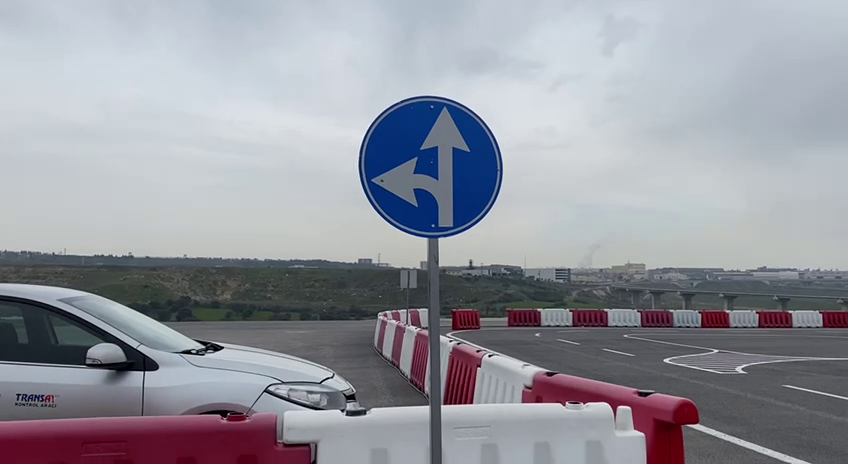forwardAndLeft: (354, 89, 511, 243)
